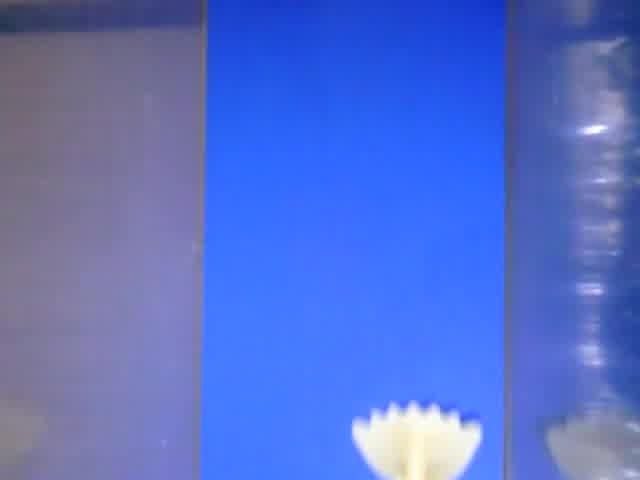farfalle: (350, 401, 482, 480)
